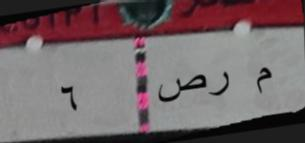6: (58, 78, 81, 115)
meem: (252, 63, 272, 102)
raa: (208, 64, 236, 104)
saad: (157, 70, 208, 106)
